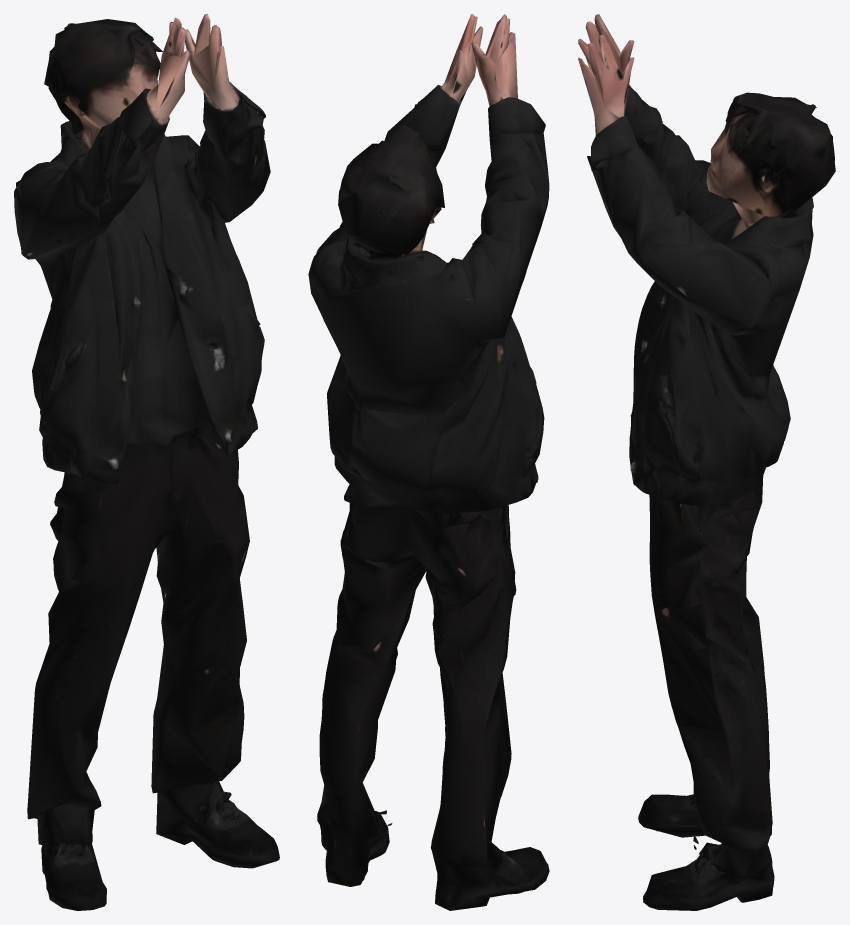
Rendered from fan-side-s2.glb.
The picture shows the model from 3 angles, left to right: view 1: azimuth 30°, elevation 25°; view 2: azimuth 150°, elevation 25°; view 3: azimuth 270°, elevation 25°; orthographic projection. The views are drawn at different scales.
Visible parts, largest first — view 1: geometry_0; view 2: geometry_0; view 3: geometry_0.
Boxes of the visible parts, left/top/right/bottom form: geometry_0: left=14, top=14, right=279, bottom=910; geometry_0: left=308, top=14, right=549, bottom=910; geometry_0: left=578, top=14, right=835, bottom=910.
Size of the model in its own units: 0.2569 by 1 by 0.279.
Materials: 1 (1 with a texture image).
